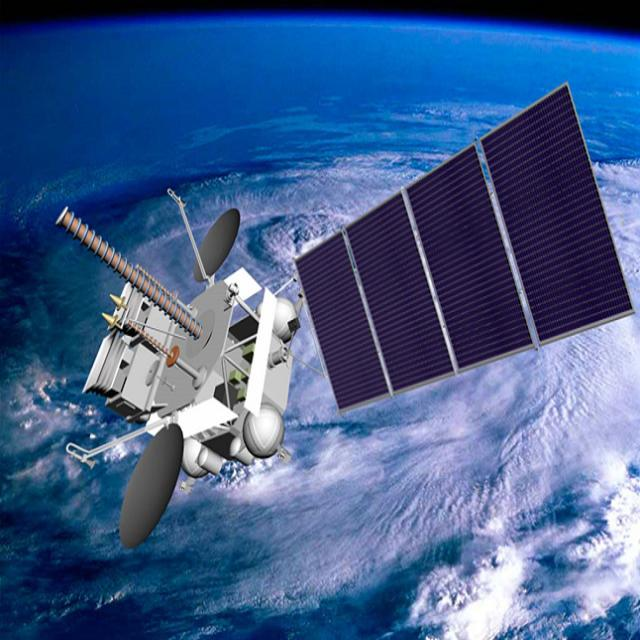medium_debris: (46, 67, 640, 554)
